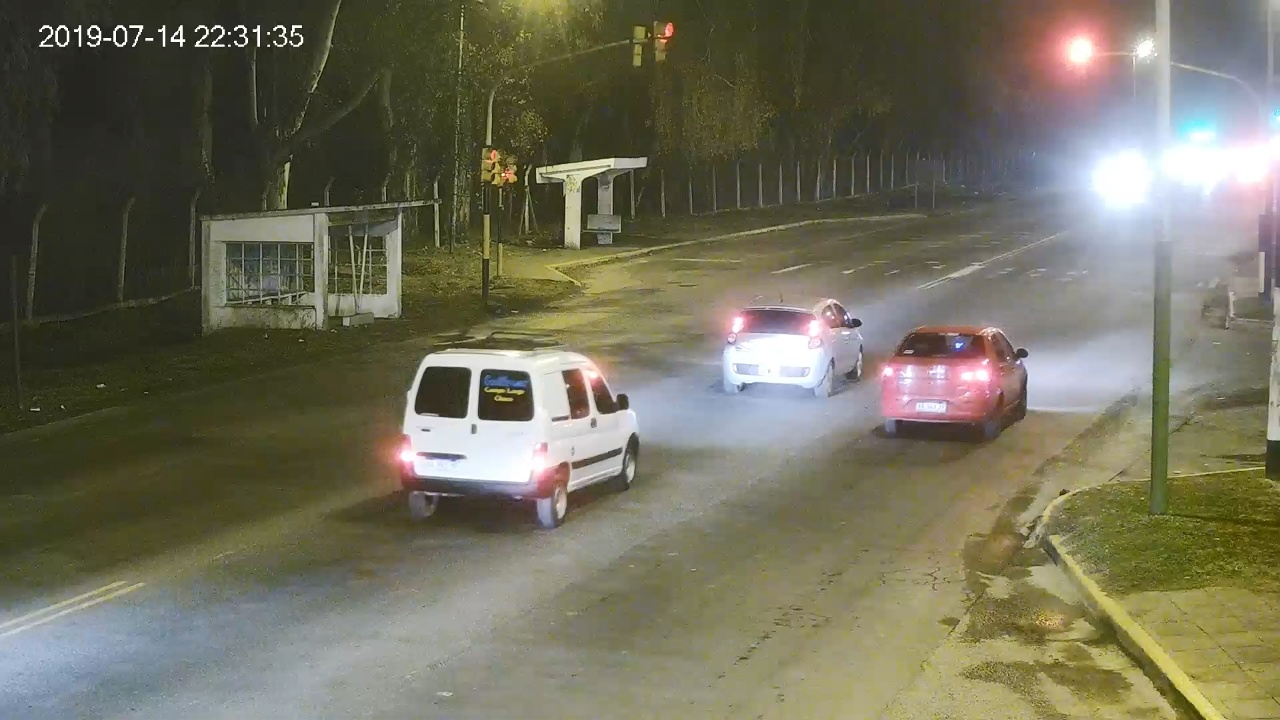car: (402, 348, 641, 526), (880, 325, 1029, 438), (722, 296, 863, 398)
